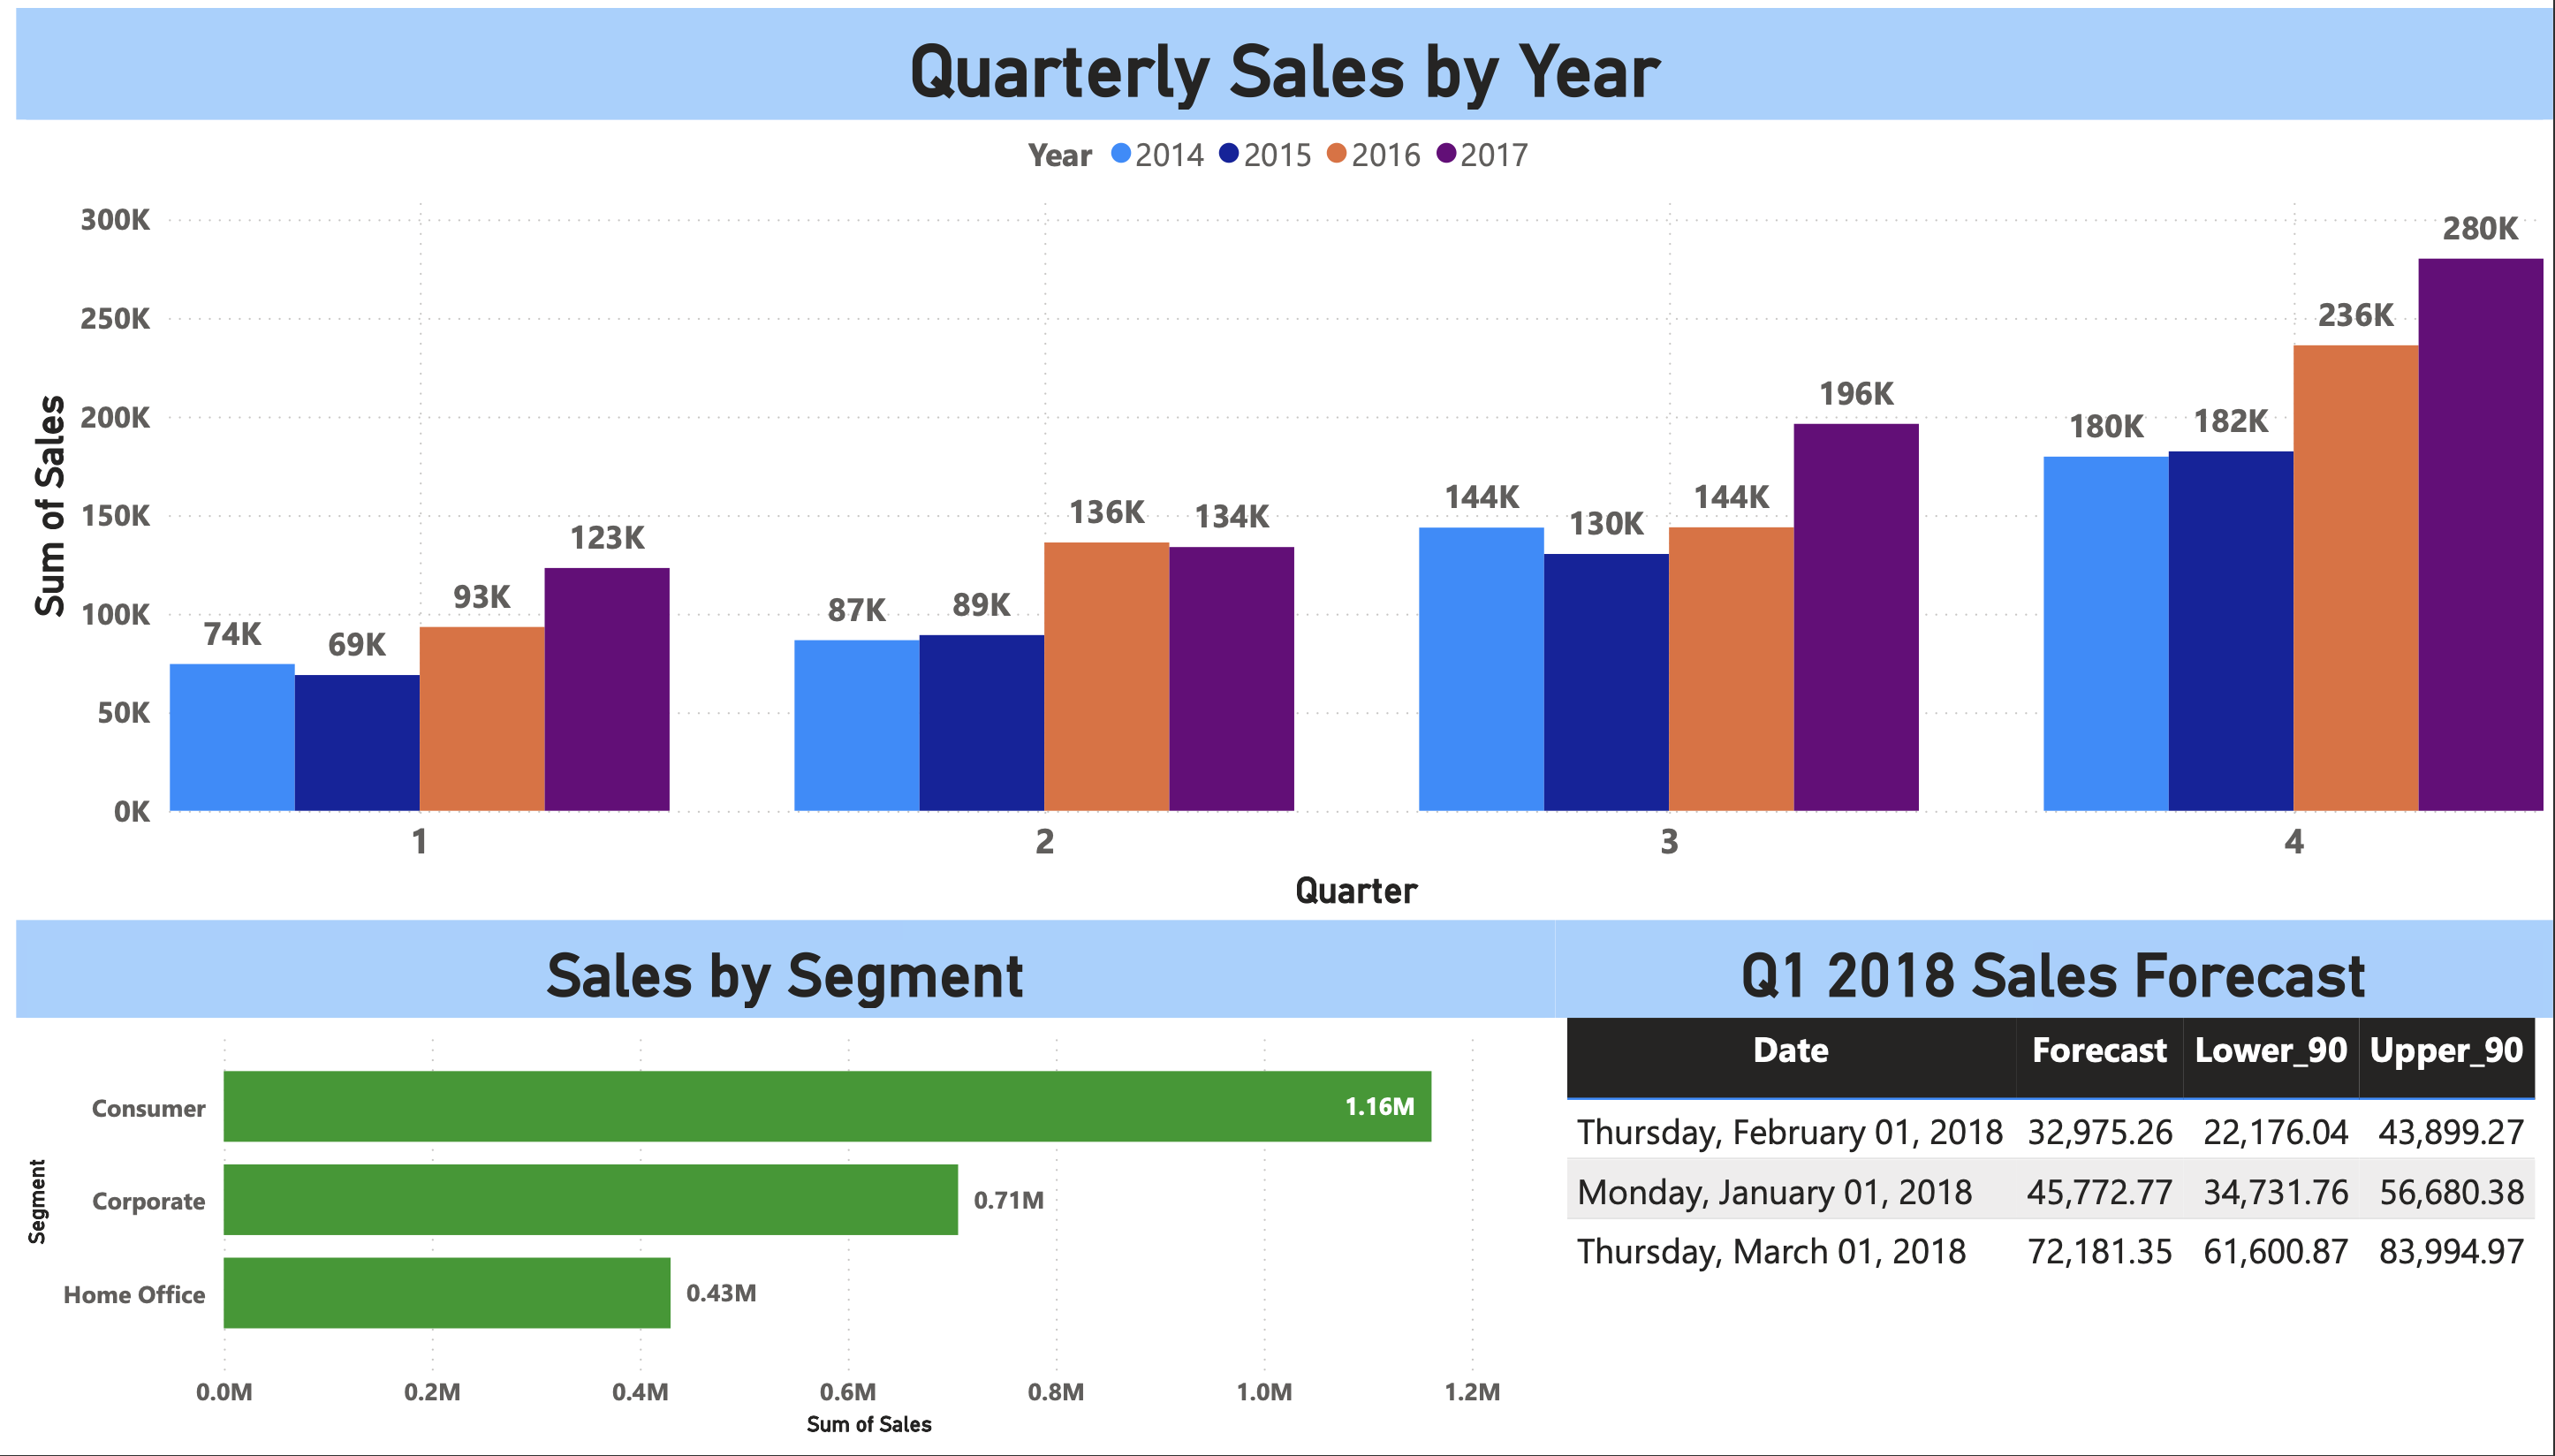

The page's visual inventory and layout, read from the dashboard file:
{"tool":"powerbi","page":{"name":"Forecast & Seasonality","canvas":[1280,720],"ordinal":1},"visuals":[{"type":"clusteredColumnChart","title":"Quarterly Sales by Year","fields":{"Category":["cleaned_data 1.Quarter"],"Y":["Sum(cleaned_data 1.Sales)"],"Series":["cleaned_data 1.Year"]},"box":[9.3,0,1271.2,456.8],"z":0},{"type":"tableEx","title":"Q1 2018 Sales Forecast","fields":{"Values":["forecast_output 1.Date","forecast_output 1.Forecast","forecast_output 1.Lower_90","forecast_output 1.Upper_90"]},"box":[780.4,456.8,500.1,205.9],"z":1000},{"type":"clusteredBarChart","title":"Sales by Segment","fields":{"Category":["cleaned_data 1.Segment"],"Y":["Sum(cleaned_data 1.Sales)"]},"box":[9.3,456.8,771.1,263.2],"z":2000}]}

Visuals, with their boxes in screenshot pixels (x1, y1, x2, y2), scaled from the page's 1280x720 canvas onto the 2555x1456 screenshot:
"Quarterly Sales by Year" clusteredColumnChart: box(19, 0, 2554, 924)
"Q1 2018 Sales Forecast" tableEx: box(1558, 924, 2554, 1340)
"Sales by Segment" clusteredBarChart: box(19, 924, 1558, 1455)
